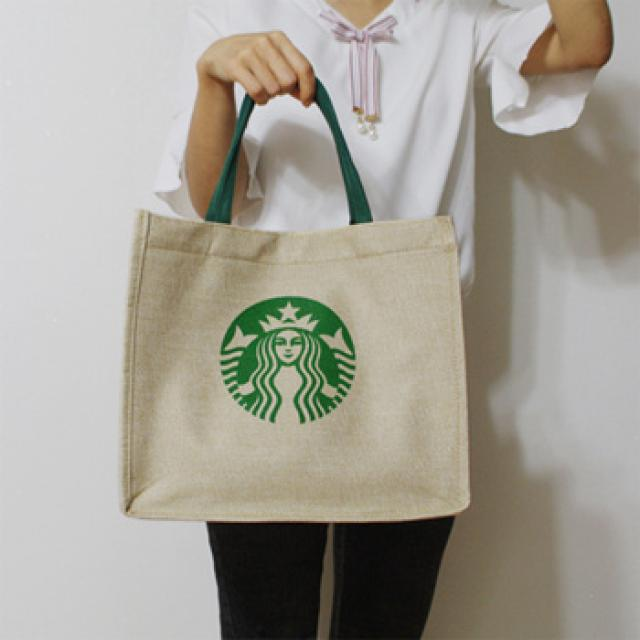ecobag: (119, 62, 491, 546)
